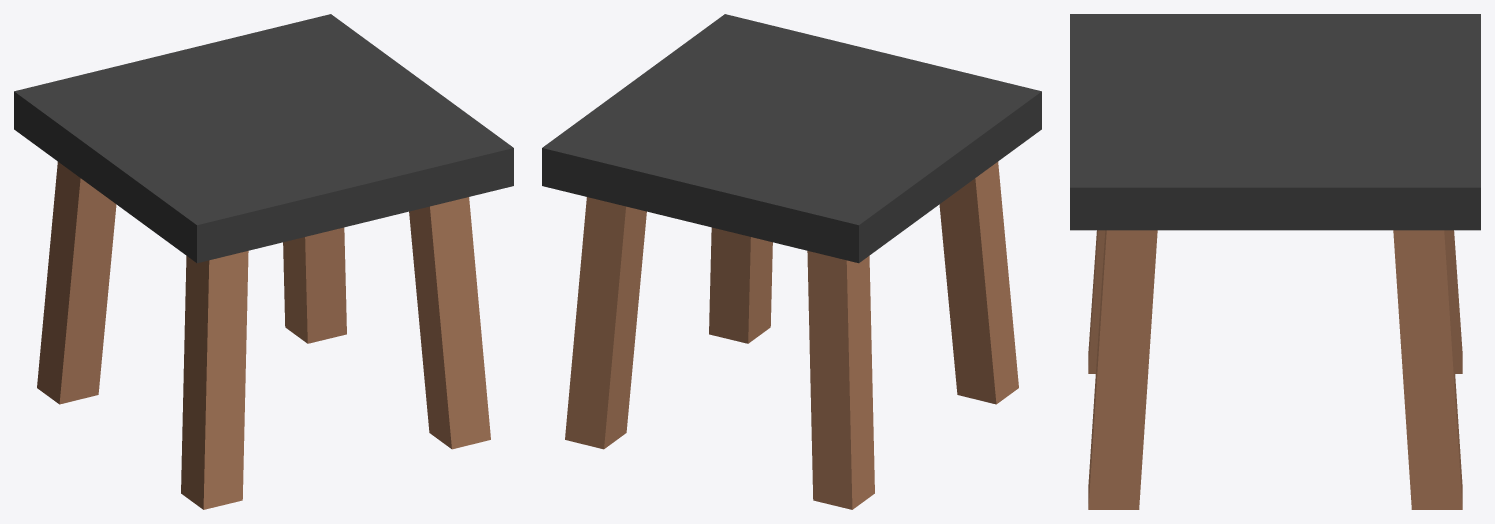
File: Chair.fbx
3 renders of one model, left to right at view 1: azimuth 30°, elevation 25°; view 2: azimuth 150°, elevation 25°; view 3: azimuth 270°, elevation 25°, orthographic. The views are drawn at different scales.
Visible parts, largest first — view 1: Chair; view 2: Chair; view 3: Chair.
Boxes of the visible parts, x1,y1,x2,y2 form: Chair: (14, 14, 513, 509); Chair: (542, 14, 1041, 509); Chair: (1070, 14, 1480, 509).
Size of the model in its own units: 143 by 127 by 143.
